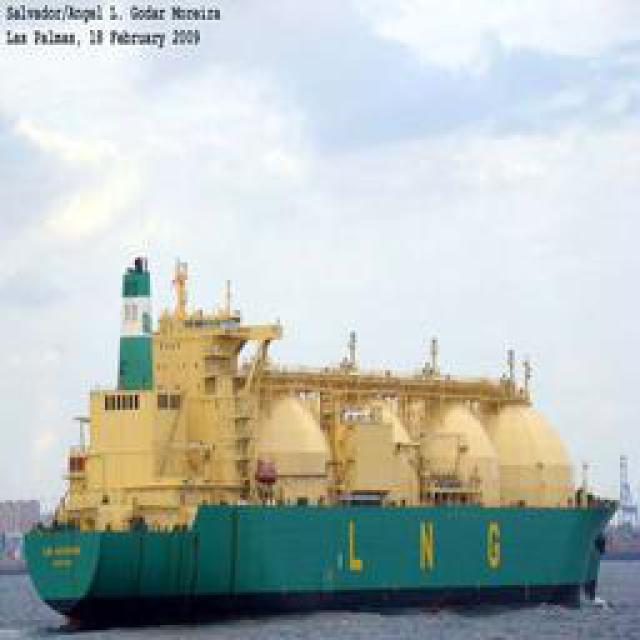Ship: (32, 399, 612, 622)
